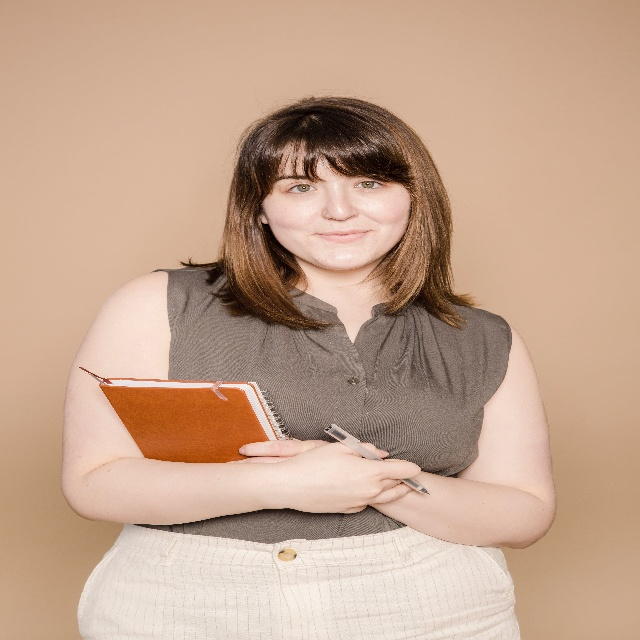Sin_guantes: (288, 441, 423, 513), (238, 437, 328, 465)
